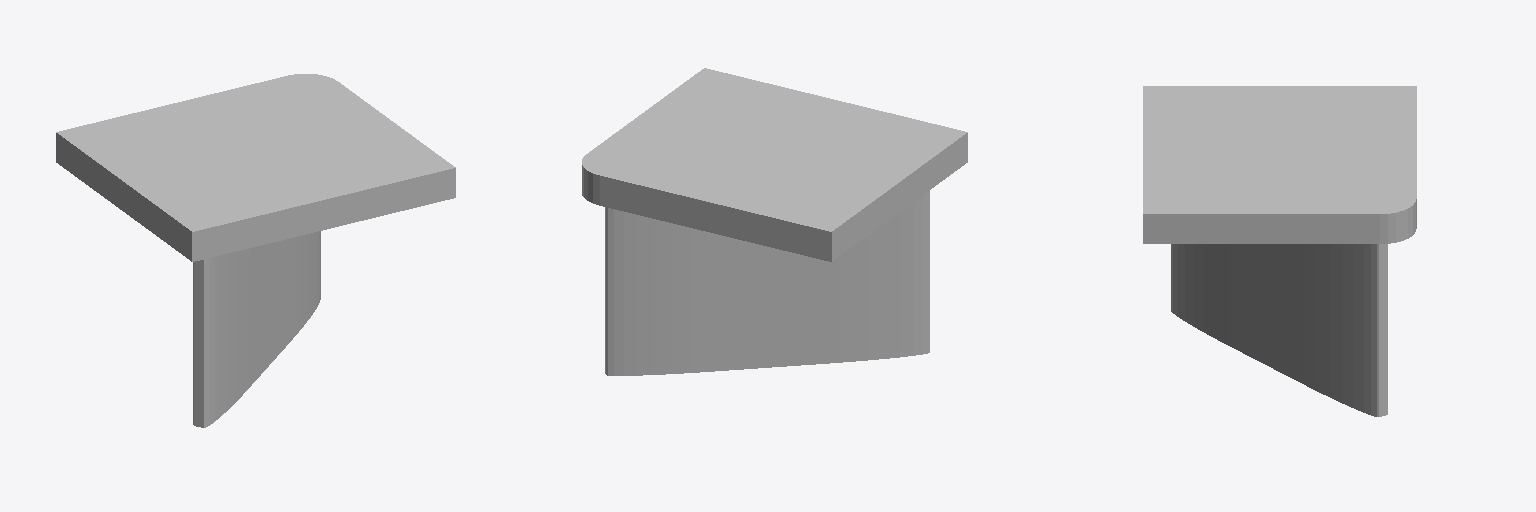
The model's file is table_part1.obj.
3 renders of one model, left to right at view 1: azimuth 30°, elevation 25°; view 2: azimuth 150°, elevation 25°; view 3: azimuth 270°, elevation 25°, orthographic.
Parts seen in each view (by area): view 1: Cube.020; view 2: Cube.020; view 3: Cube.020.
Boxes of the visible parts, x1,y1,x2,y2 form: Cube.020: [56, 74, 455, 427]; Cube.020: [582, 68, 967, 375]; Cube.020: [1143, 86, 1416, 416].
Size of the model in its own units: 17.71 by 13.61 by 15.89.